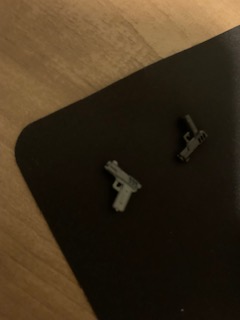pistol: (100, 158, 144, 216), (170, 111, 208, 163)
